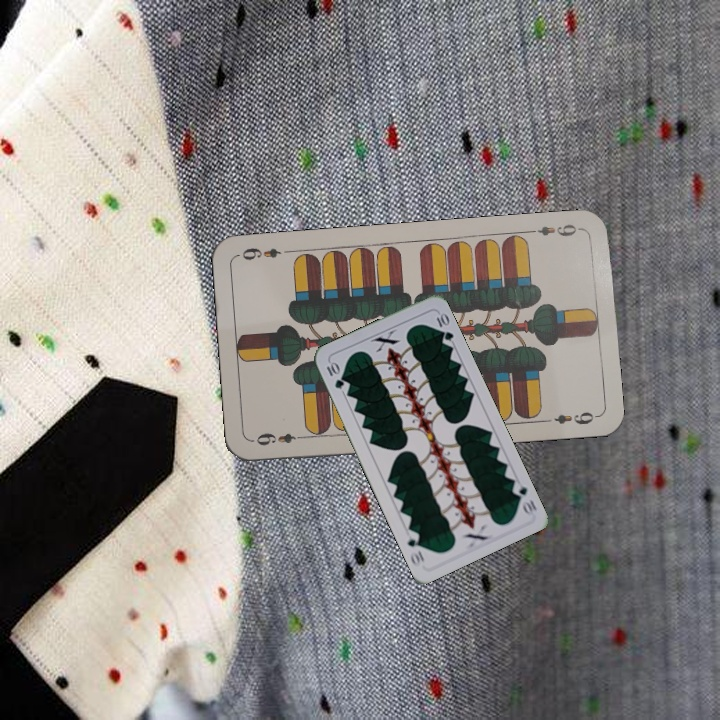E9: (250, 429, 309, 448), (525, 220, 584, 239)
G10: (508, 477, 539, 517), (322, 358, 347, 391)
